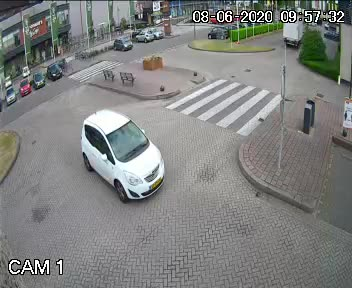car: (70, 106, 172, 211), (282, 13, 301, 48)
